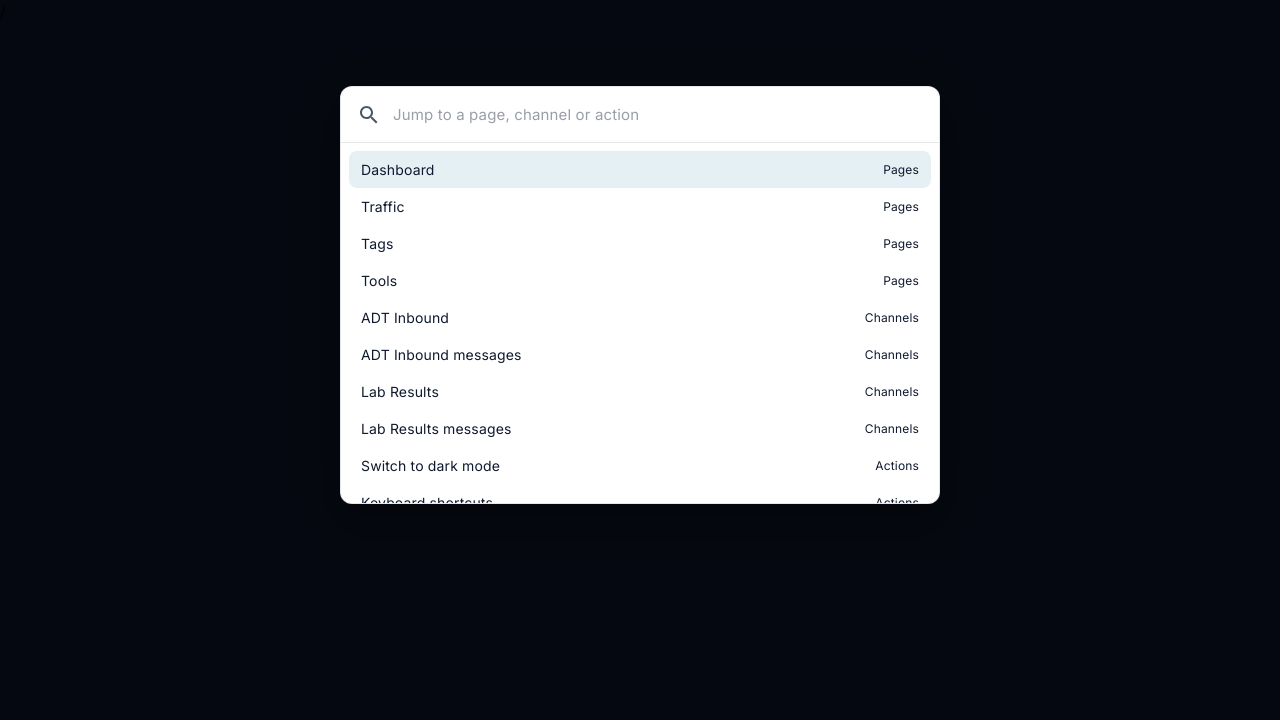
Scenario: CommandPalette › hides pages and actions the user lacks permission for
The width and height of the screenshot is (1280, 720).
Type "alert" into the dropdown labelled "Jump to" at (658, 115), box [393,99,923,130]
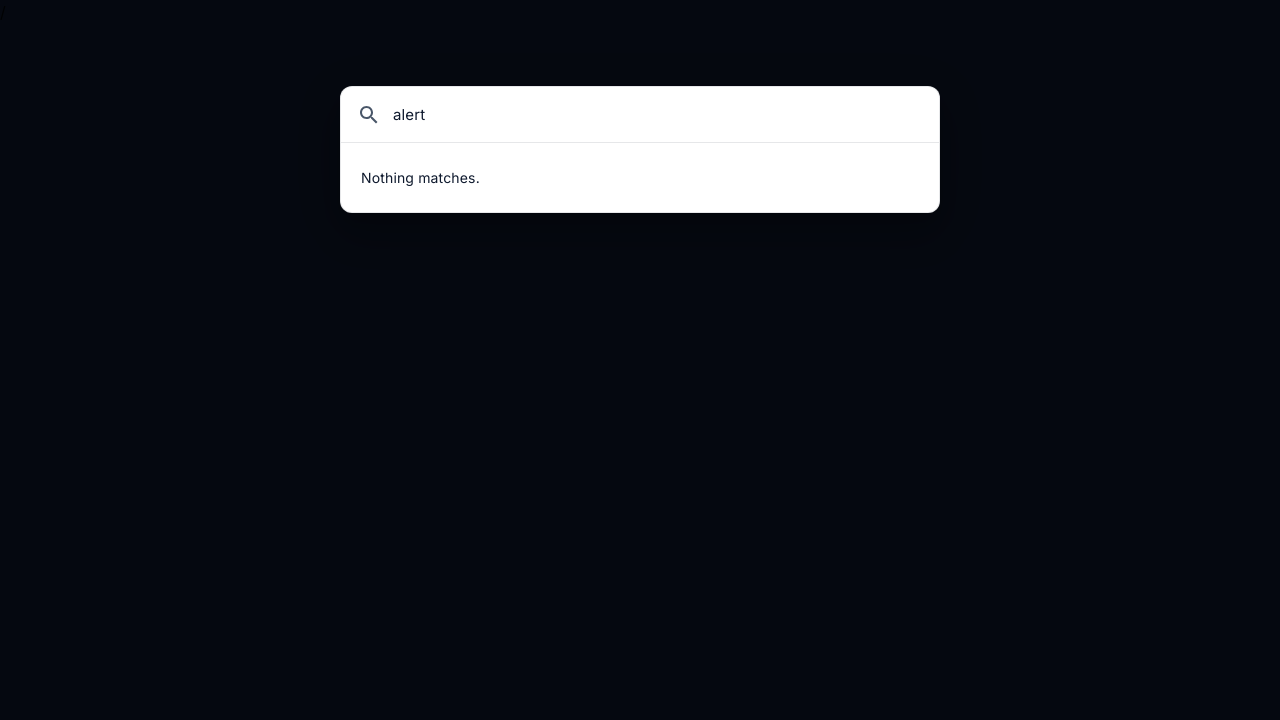
Expected: the text "Nothing matches." is shown, [361,169,480,186]
